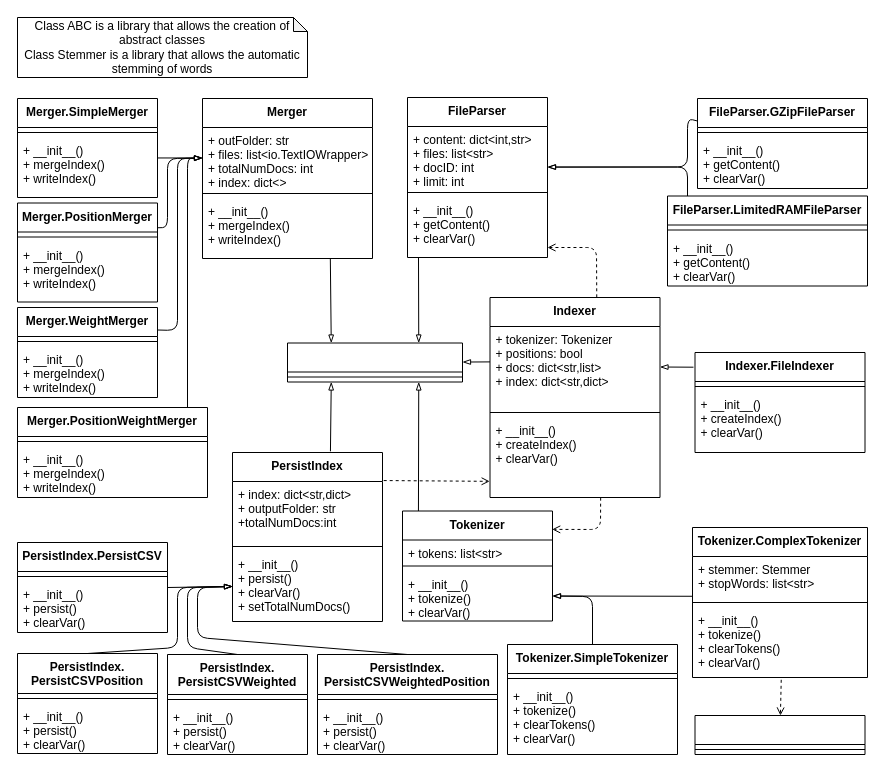
The diagram is 885 pixels wide and 775 high, and some of its shapes have lost their labels. Each missing label, with the centre of its shape:
"abc.ABC" belongs at (x=374, y=362).
"Stemmer" belongs at (x=779, y=734).
